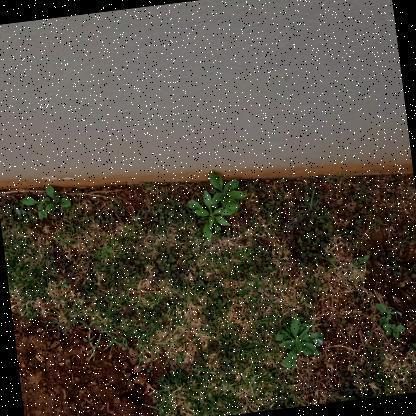Weeds: (272, 311, 327, 371), (186, 189, 235, 245), (208, 165, 251, 218), (18, 191, 57, 223), (42, 182, 73, 214), (376, 299, 403, 326), (383, 319, 409, 341), (356, 252, 371, 265)
